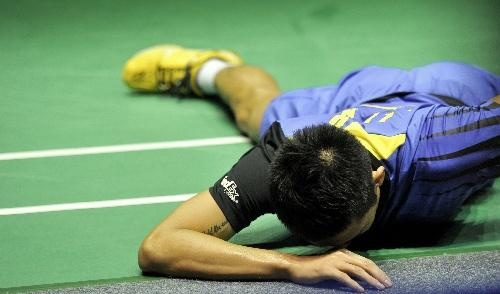falling: (122, 8, 484, 291)
